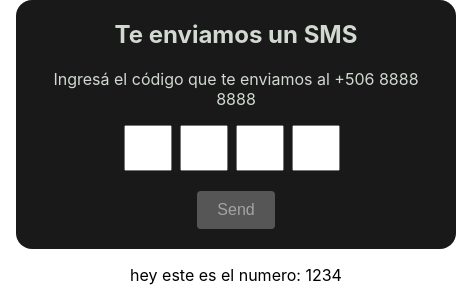
Test: OTPInput Component › enables the send button when OTP is valid
Expected: the text "hey este es el numero: 1234" is shown, [130,265,342,285]
Expected: the button "Send" is disabled, [197,191,275,229]
Type "1" into the 1st field at (148, 148), box [124,125,172,171]
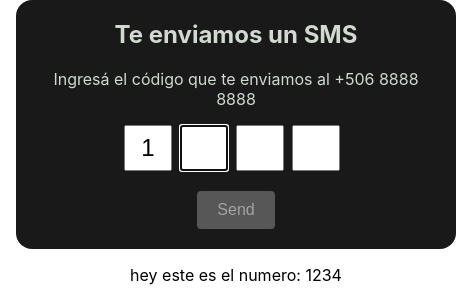
Type "2" into the 2nd field at (204, 148), box [180,125,228,171]
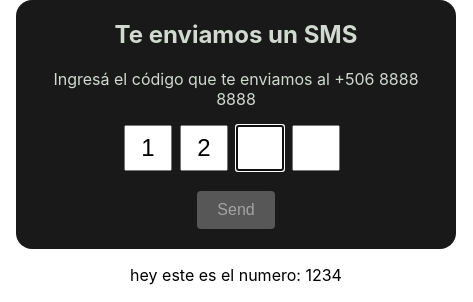
Type "3" into the 3rd field at (260, 148), box [236,125,284,171]
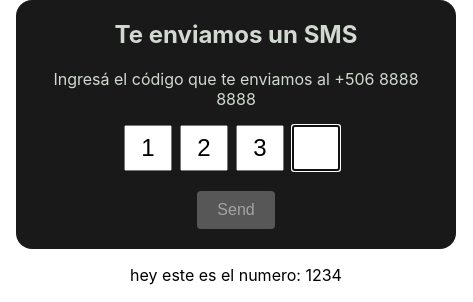
Type "4" into the 4th field at (316, 148), box [292,125,340,171]
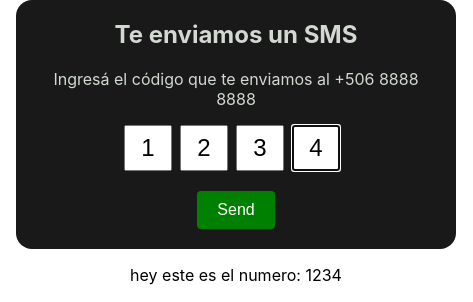
Result: the button "Send" is enabled at [197,191,275,229]
